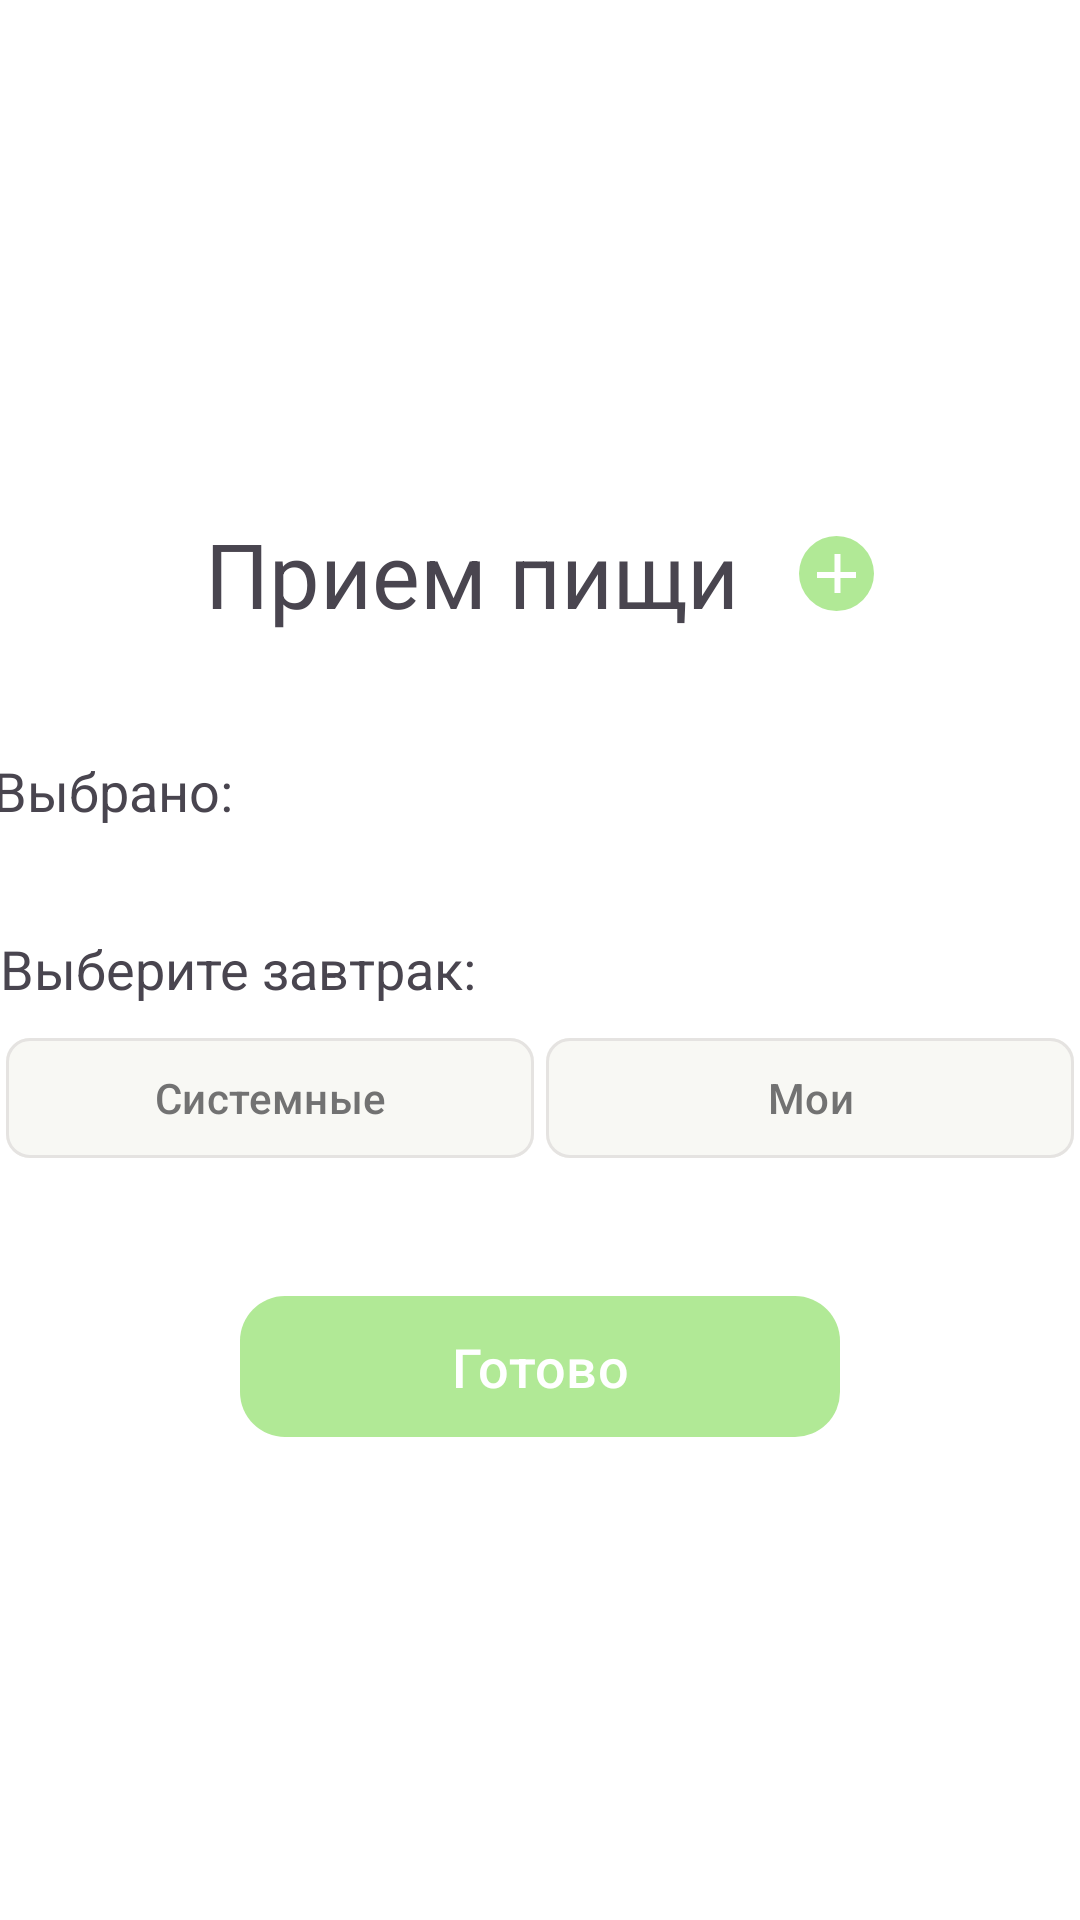

Icons on this 1080 × 1920 Android screen, each with its box as (x1, y1, x2, y2):
breakfast add: (799, 536, 874, 611)
